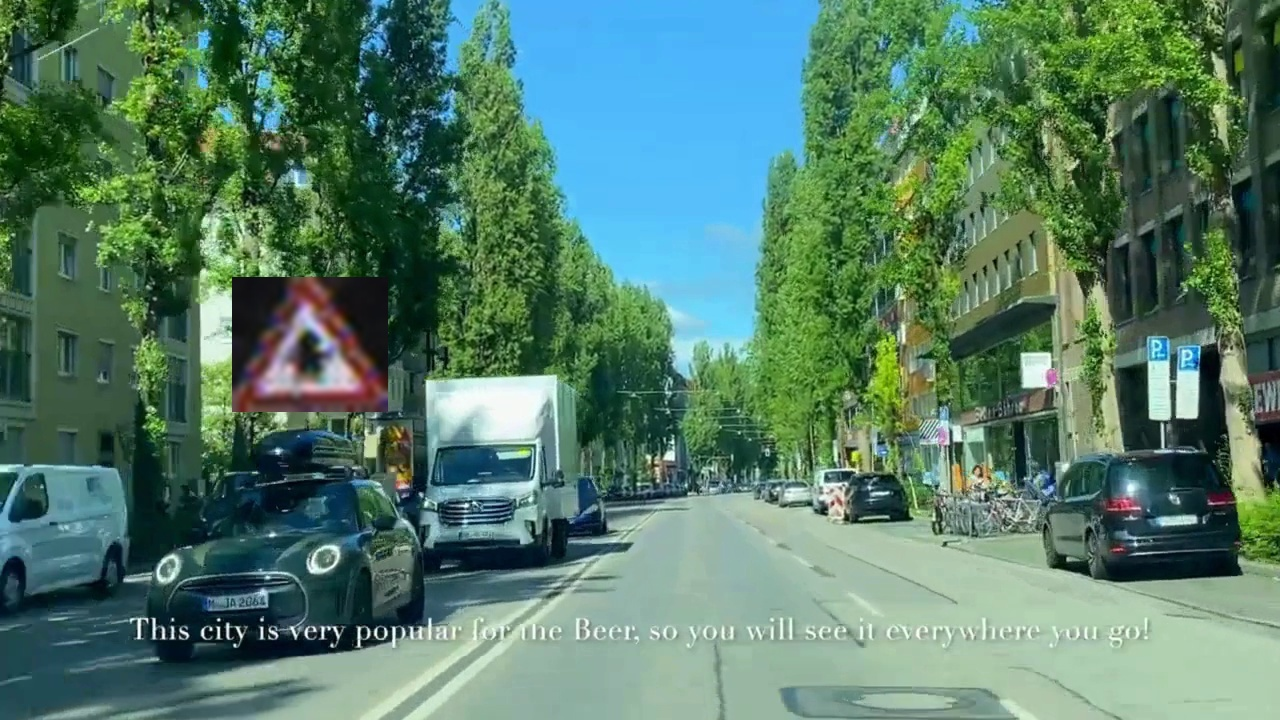Right-of-way: (232, 277, 388, 412)
